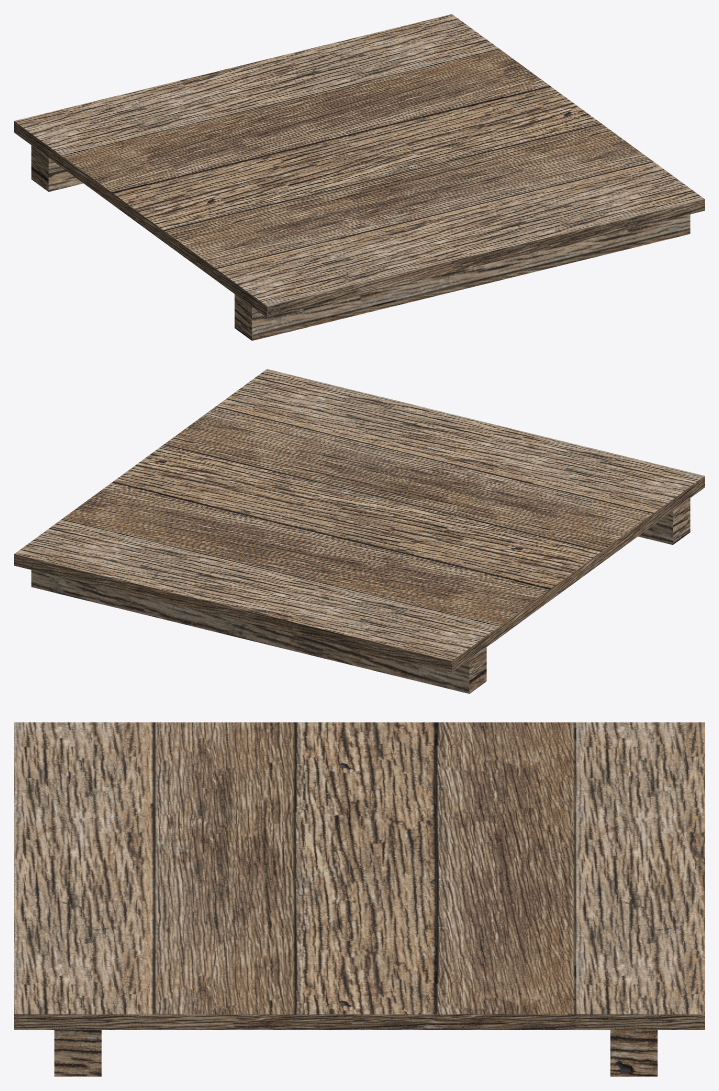
Rendered from puente11deagosto.fbx.
The picture shows the model from 3 angles, top to bottom: view 1: azimuth 30°, elevation 25°; view 2: azimuth 150°, elevation 25°; view 3: azimuth 270°, elevation 25°; orthographic projection. The views are drawn at different scales.
Parts seen in each view (by area): view 1: estructura; view 2: estructura; view 3: estructura.
Boxes of the visible parts, left/top/right/bottom form: estructura: left=14, top=14, right=704, bottom=340; estructura: left=14, top=369, right=704, bottom=693; estructura: left=14, top=722, right=704, bottom=1076.
Size of the model in its own units: 400 by 39.78 by 400.
3 materials, 3 textured.
